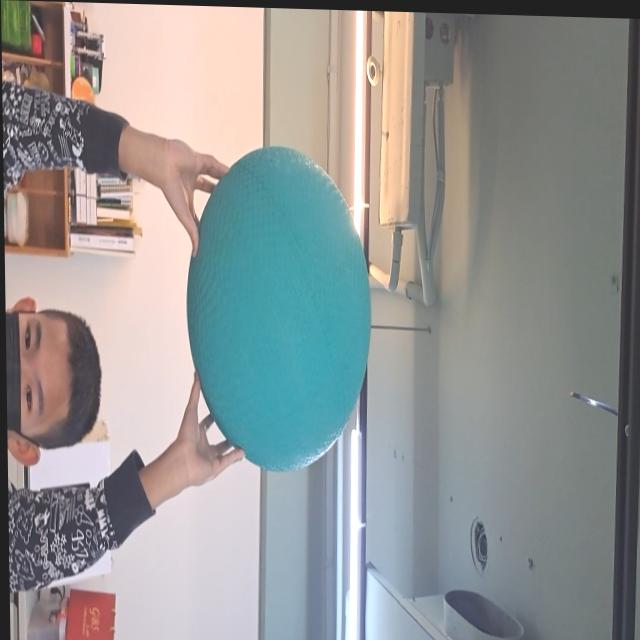ALGAE: (183, 147, 371, 475)
